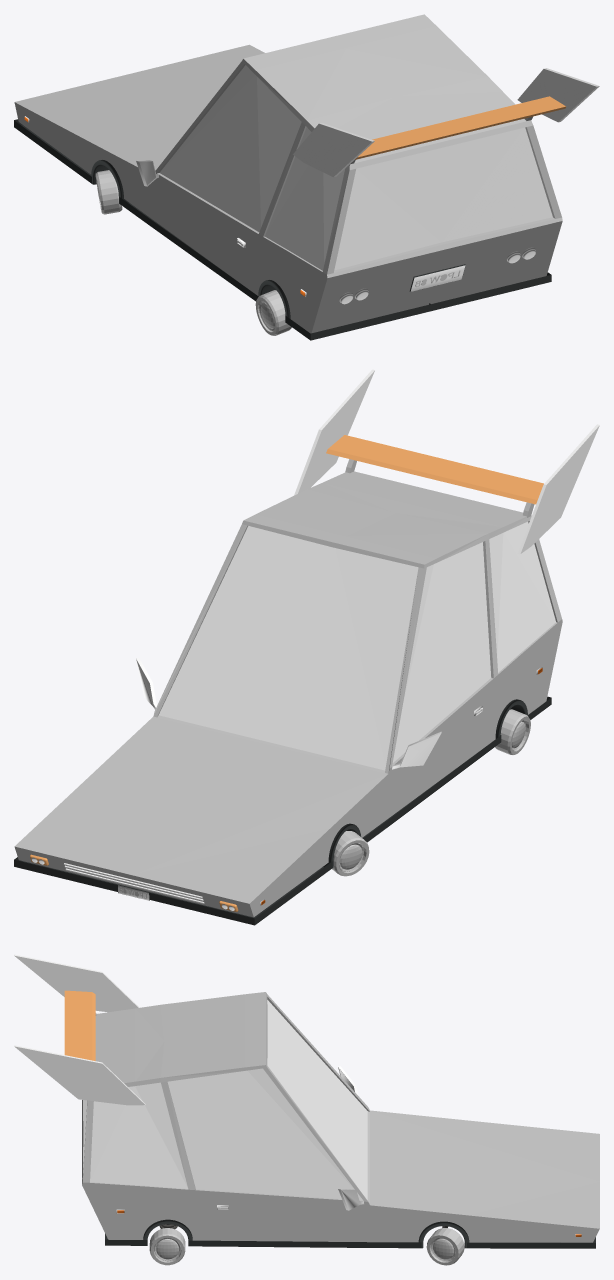
File: car.obj
3 renders of one model, top to bottom at view 1: azimuth 30°, elevation 25°; view 2: azimuth 150°, elevation 25°; view 3: azimuth 270°, elevation 25°, orthographic. The views are drawn at different scales.
Parts seen in each view (by area): view 1: Body, Spoiler, Bumper, Spoiler_main, Cylinder.2_4, Cylinder.2_3, Number, Arc; view 2: Body, Spoiler, Spoiler_main, Bumper, Mirror, Cylinder.2_3, Cylinder.2_4; view 3: Body, Spoiler, Bumper, Spoiler_main, Cylinder.2_2, Cylinder.2_1, Mirror, Sphere, Sphere_1.
Part boxes in pixels (left/top/right/bottom): Body: left=14, top=14, right=562, bottom=333; Spoiler: left=293, top=68, right=599, bottom=177; Bumper: left=14, top=119, right=551, bottom=340; Spoiler_main: left=355, top=96, right=566, bottom=159; Cylinder.2_4: left=95, top=170, right=122, bottom=214; Cylinder.2_3: left=255, top=290, right=291, bottom=335; Number: left=409, top=264, right=465, bottom=291; Arc: left=91, top=160, right=129, bottom=203; Body: left=14, top=471, right=562, bottom=917; Spoiler: left=294, top=369, right=599, bottom=554; Spoiler_main: left=326, top=435, right=543, bottom=504; Bumper: left=14, top=696, right=551, bottom=925; Mirror: left=136, top=657, right=441, bottom=769; Cylinder.2_3: left=495, top=709, right=530, bottom=754; Cylinder.2_4: left=332, top=831, right=369, bottom=876; Body: left=82, top=992, right=599, bottom=1242; Spoiler: left=14, top=954, right=145, bottom=1105; Bumper: left=105, top=1233, right=595, bottom=1248; Spoiler_main: left=64, top=990, right=95, bottom=1060; Cylinder.2_2: left=426, top=1228, right=464, bottom=1265; Cylinder.2_1: left=149, top=1228, right=185, bottom=1265; Mirror: left=338, top=1066, right=363, bottom=1210; Sphere: left=154, top=1238, right=180, bottom=1261; Sphere_1: left=431, top=1238, right=455, bottom=1261.
Size of the model in its own units: 258 by 208 by 517.
